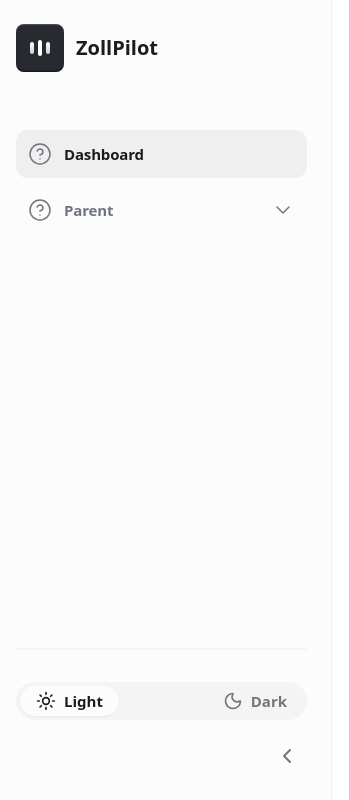
Test case: Sidebar Structure › handles nested menu expansion
expect the text "Child 1" is not shown: met
# Click Parent Trigger (first button in the section)
Click the button "Parent" at (89, 210), box [16,186,307,234]
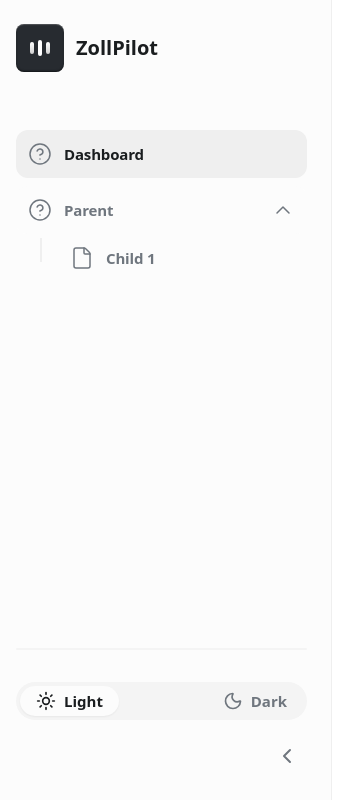
expect the text "Child 1" is shown: met, box [106,246,156,270]
